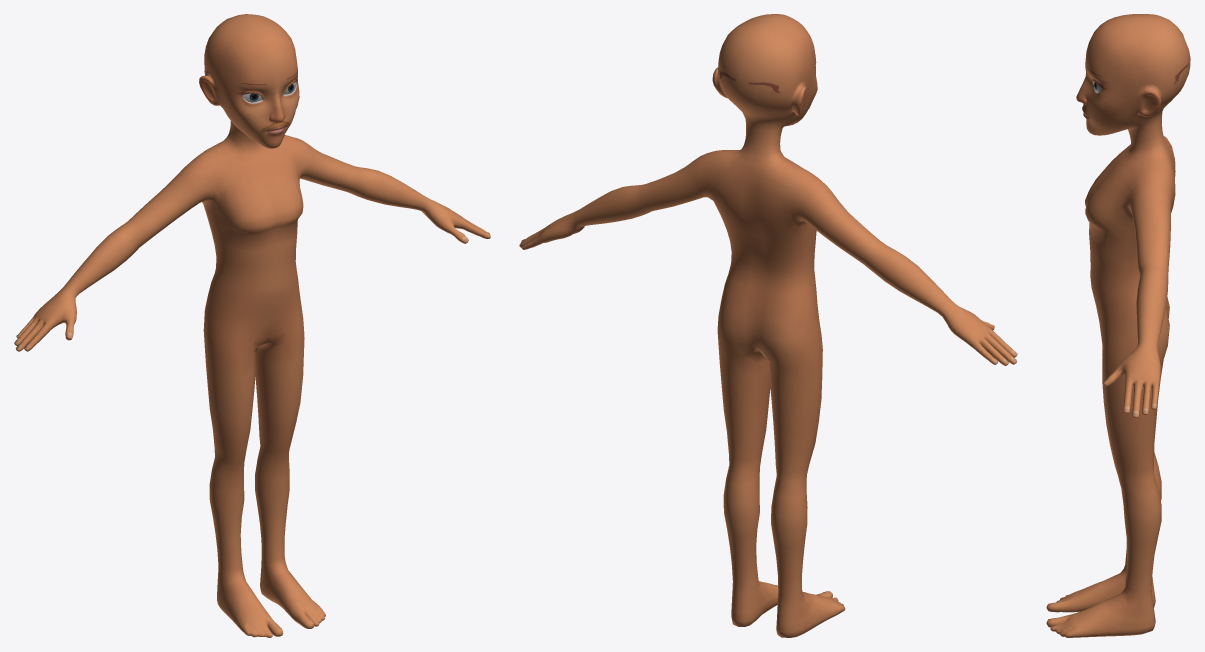
File: frame_0005.glb
3 renders of one model, left to right at view 1: azimuth 30°, elevation 25°; view 2: azimuth 150°, elevation 25°; view 3: azimuth 270°, elevation 25°, orthographic. The views are drawn at different scales.
Visible parts, largest first — view 1: frame_0005_head_geo; view 2: frame_0005_head_geo; view 3: frame_0005_head_geo.
Part boxes in pixels (left/top/right/bottom): frame_0005_head_geo: left=14, top=14, right=490, bottom=637; frame_0005_head_geo: left=519, top=14, right=1017, bottom=637; frame_0005_head_geo: left=1046, top=14, right=1190, bottom=637.
Bounding box in the file's own units: 1.28 × 1.5 × 0.3253.
Materials: 4 (2 with a texture image).
